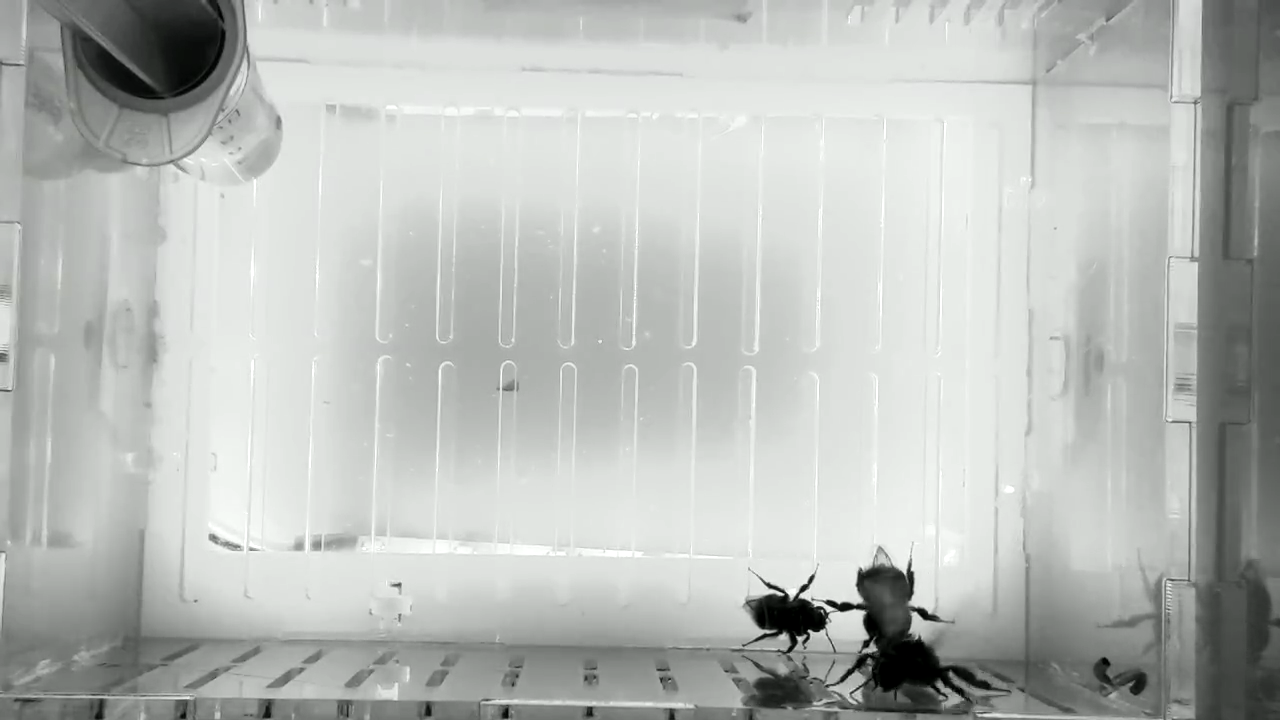bee_alive: (811, 539, 960, 654), (821, 633, 1015, 712), (738, 560, 847, 658)
feeder: (173, 51, 287, 190)
